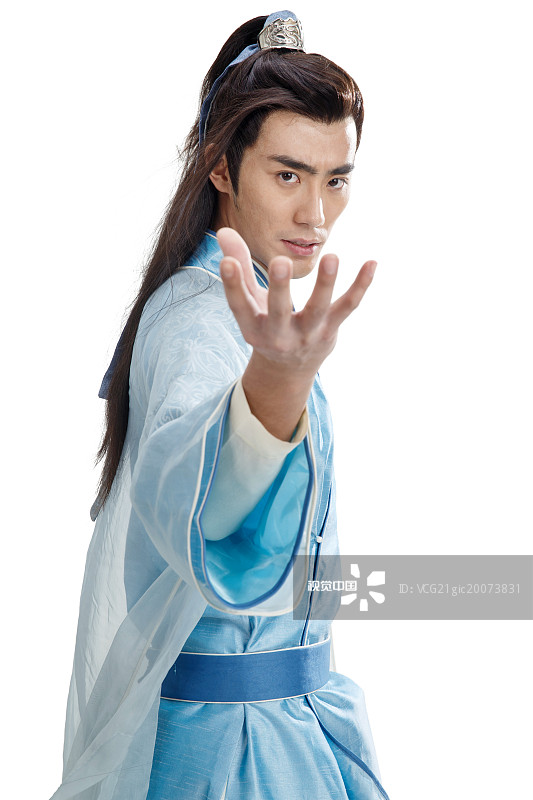no-phone: (194, 214, 382, 411)
